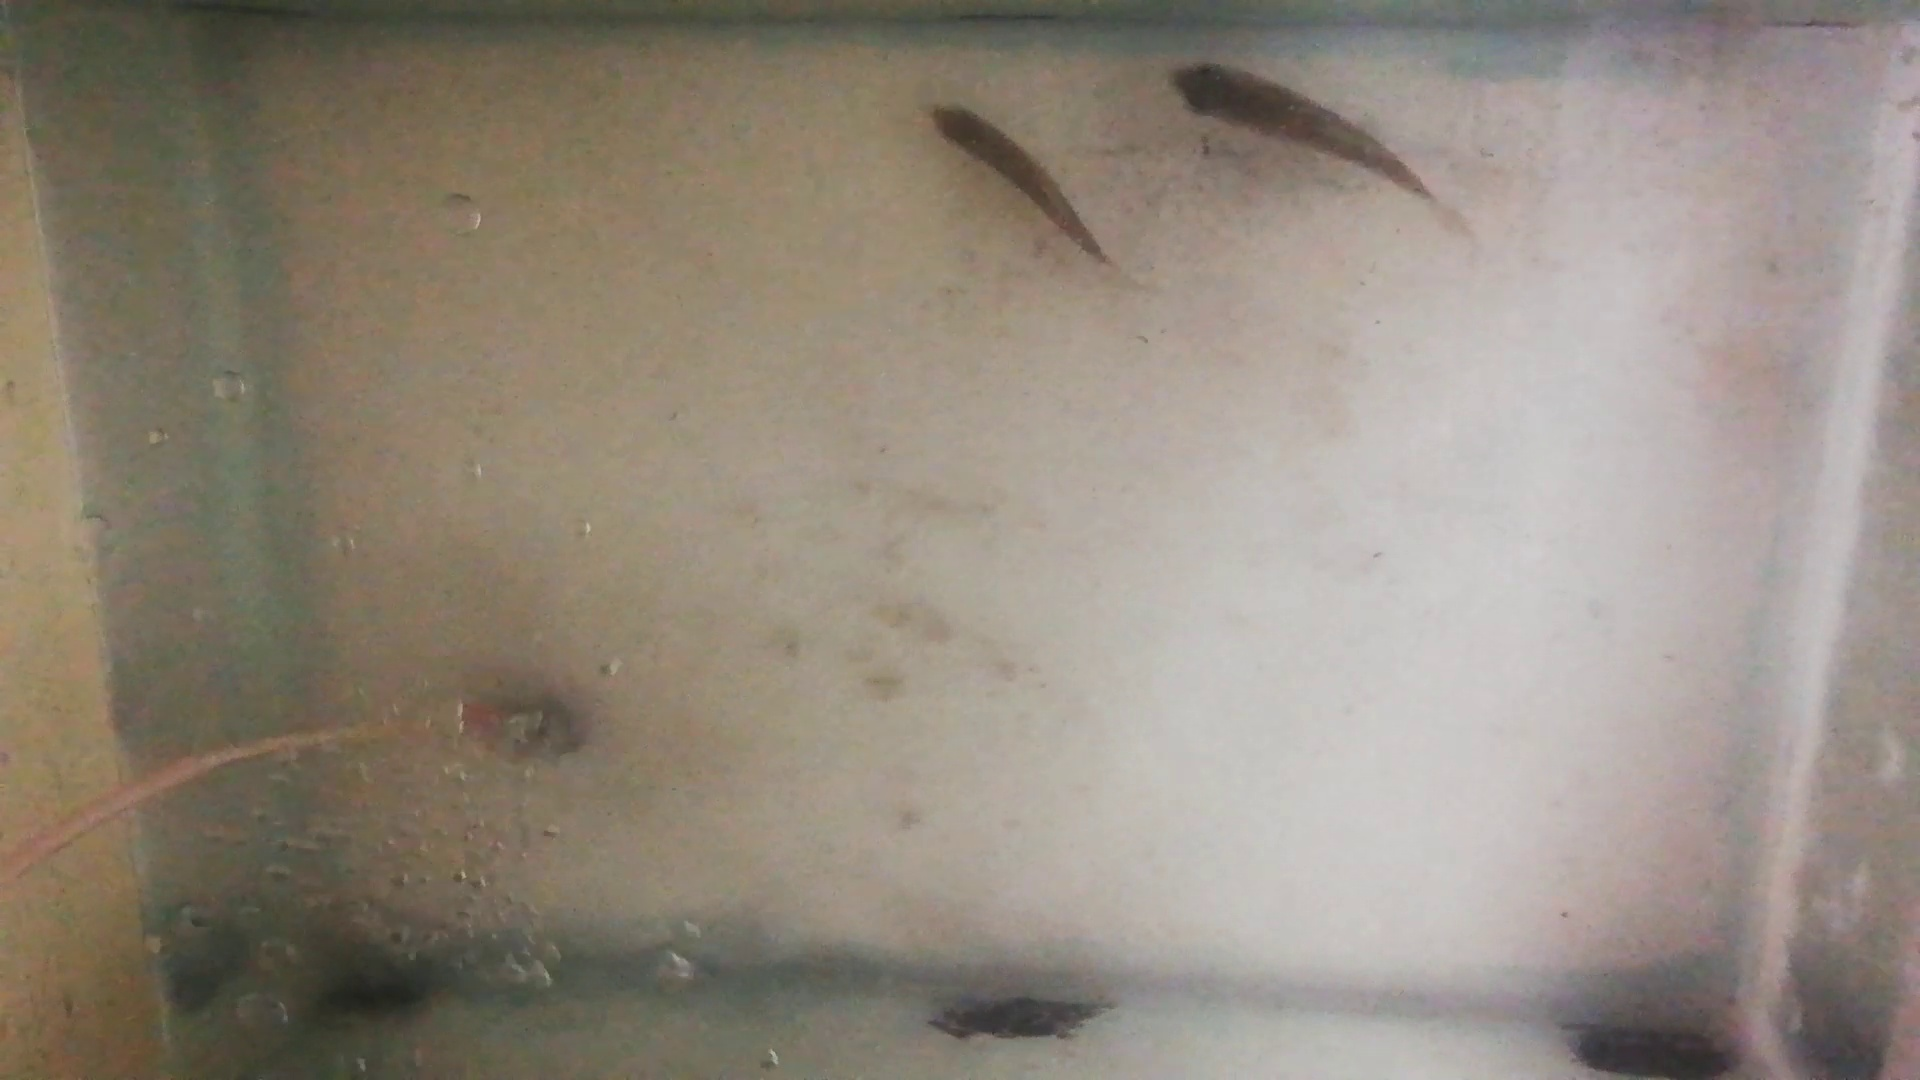fish: (1167, 61, 1432, 200), (926, 105, 1112, 262)
